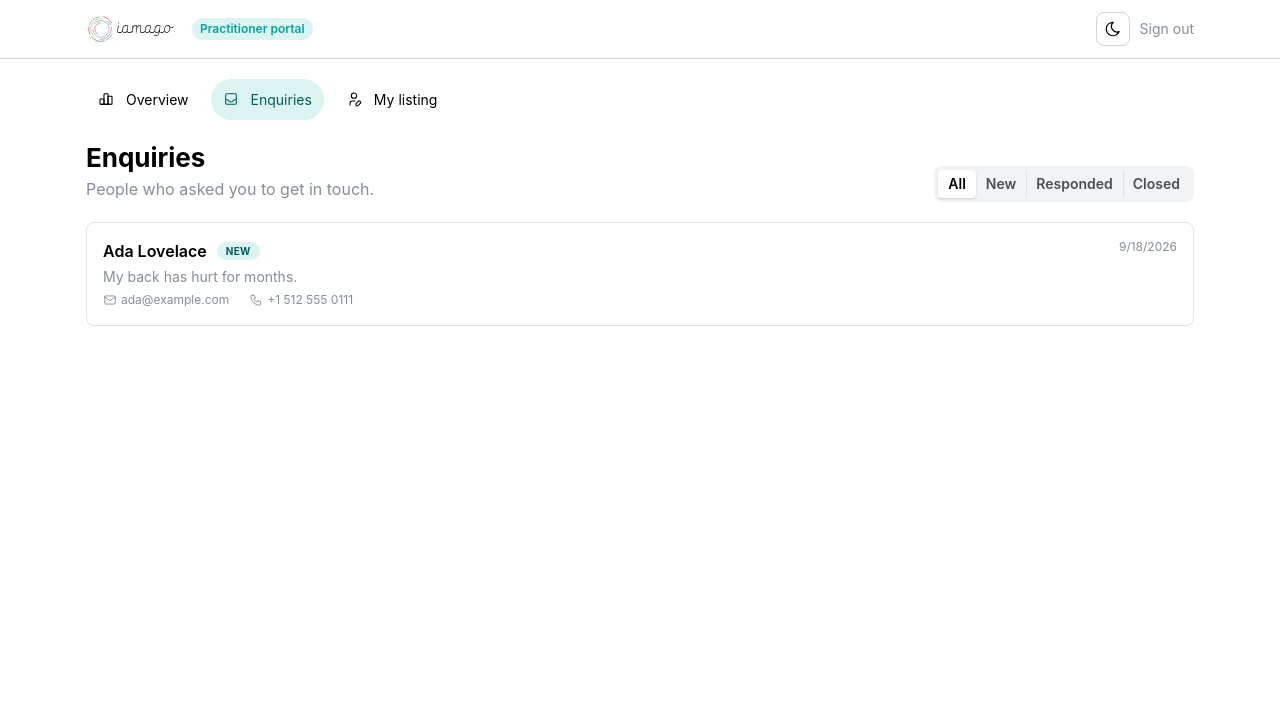
Scenario: practitioner portal › says plainly when a patient withheld their concerns
This screenshot has width=1280, height=720.
Click the text "Ada Lovelace" at (155, 251), box [103,239,207,264]
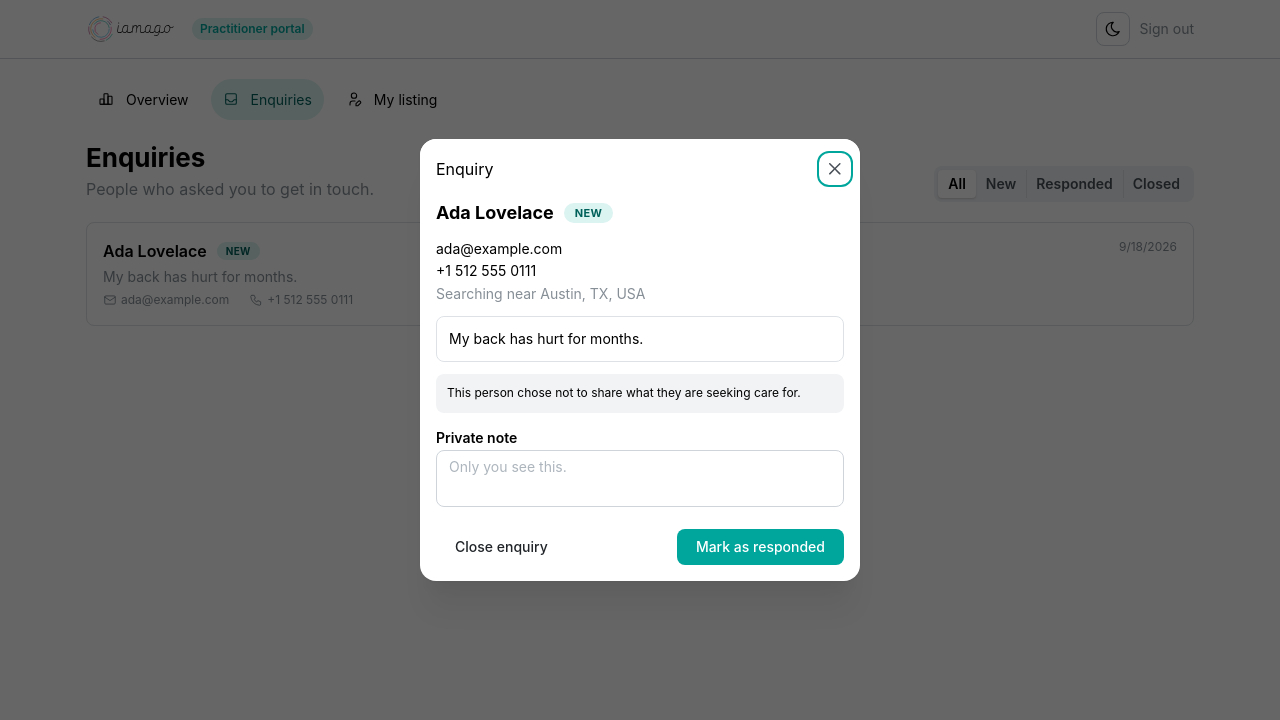
Expected: the text "chose not to share what they are seeking care for" is shown, [447,385,801,400]
